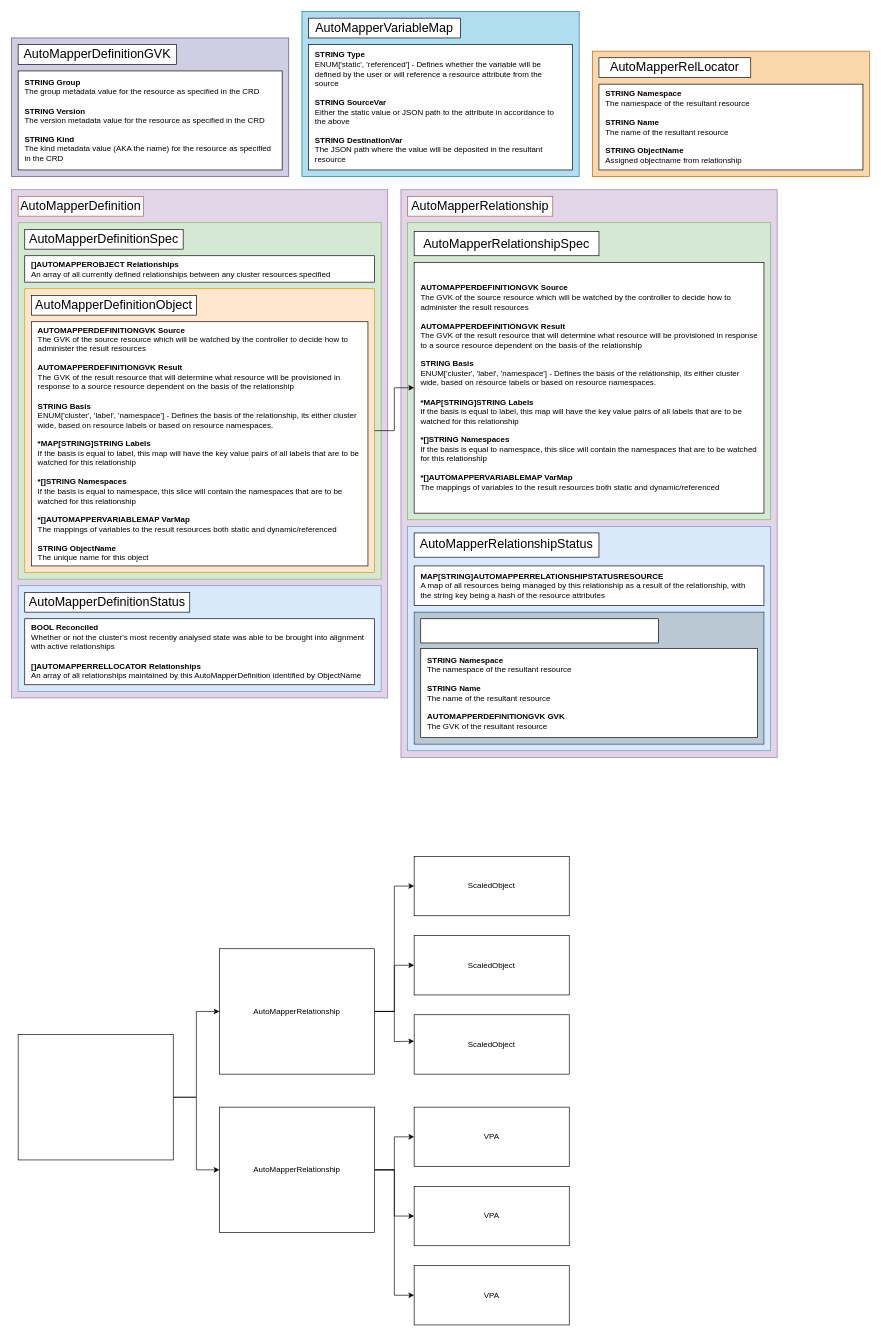
Image size: 881x1337. Some labels were removed from this diagram. The box of each missing label's shape, as (x1, y1, x2, y2) in pixels:
AutoMapperDefinittion: (17, 1034, 173, 1160)
AutoMapperRelationshipStatusResource: (420, 618, 658, 643)
